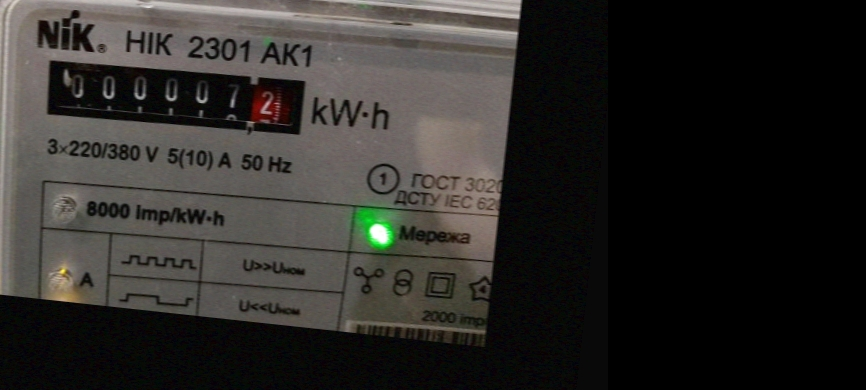0: (160, 72, 180, 101), (66, 68, 86, 96), (98, 69, 117, 98), (129, 70, 148, 99), (192, 74, 210, 104)
2: (256, 86, 275, 114)
7: (223, 77, 241, 108)
screen: (31, 43, 317, 145)
